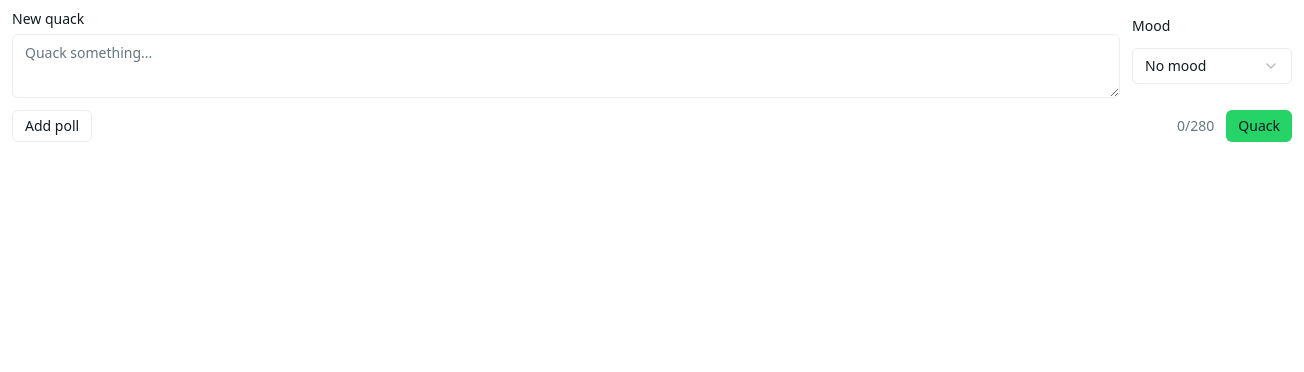
it: QuackForm › poll › offers the three poll lengths
The width and height of the screenshot is (1304, 372).
Click the button "Add poll": coordinates (52, 126) x1=12 y1=110 x2=92 y2=142
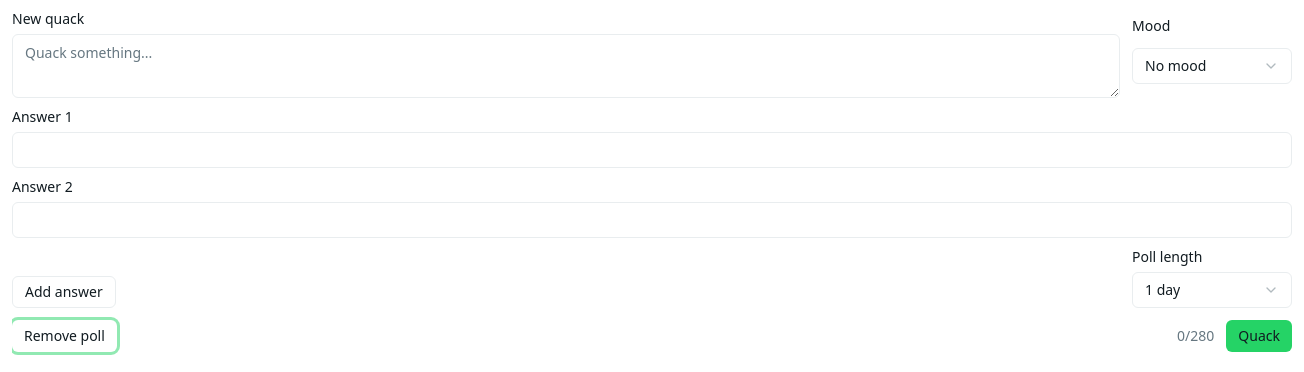
Click the dropdown named "Poll length": coordinates (1212, 290) x1=1132 y1=272 x2=1292 y2=308
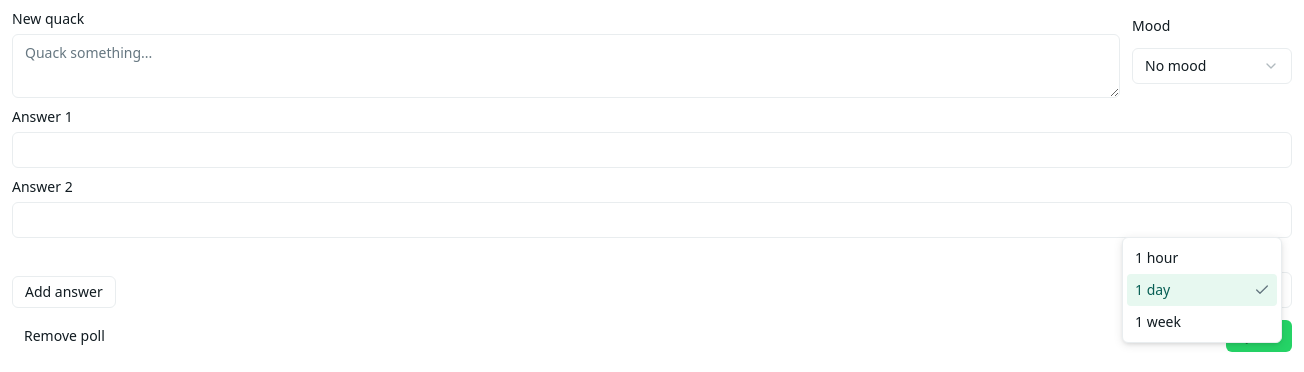
Result: the option "1 hour" is shown at x1=1135 y1=248 x2=1178 y2=267
Result: the option "1 day" is shown at x1=1127 y1=274 x2=1277 y2=306
Result: the option "1 week" is shown at x1=1135 y1=312 x2=1181 y2=331
